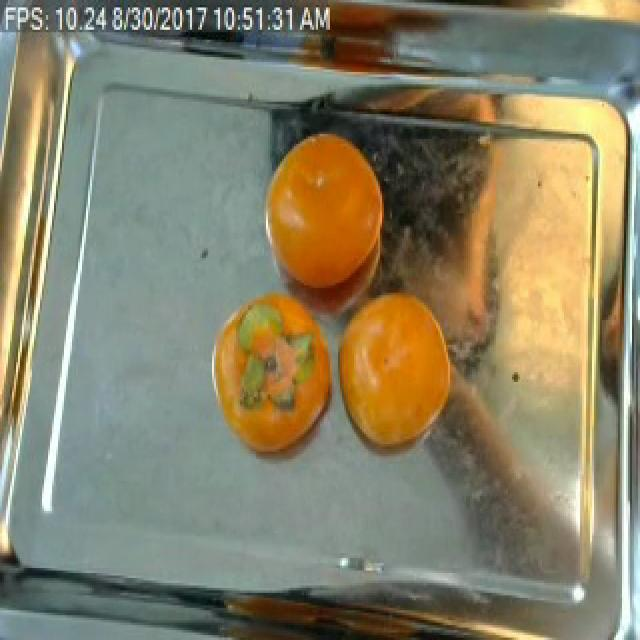Fruit: (250, 114, 402, 320), (200, 270, 342, 487), (326, 270, 468, 477)
